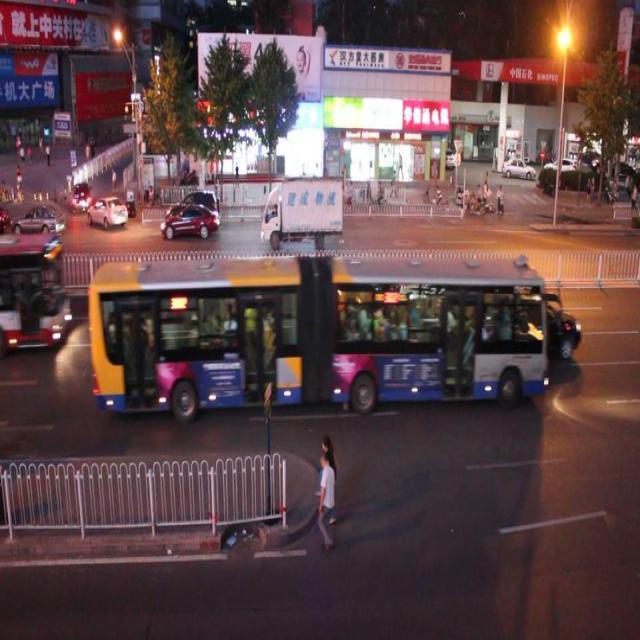bus: (262, 178, 343, 248)
car: (500, 293, 581, 360), (166, 185, 223, 232), (160, 202, 219, 238), (11, 202, 65, 241), (87, 194, 128, 226), (70, 179, 91, 212)
van: (86, 259, 545, 407), (1, 231, 71, 346)
